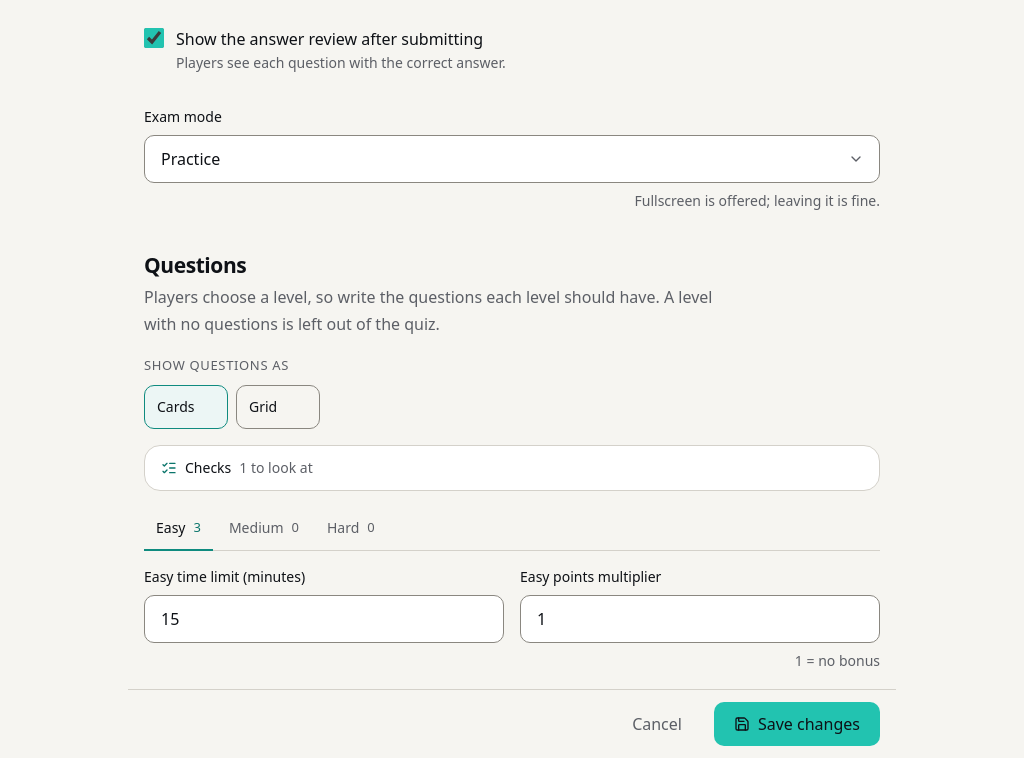
Test: the grid › marks the right option and reads the Correct column when it is left
(page scrolled)
Click the radio button labelled "Grid".
click(278, 406)  # box [236,384,320,428]
(page scrolled)
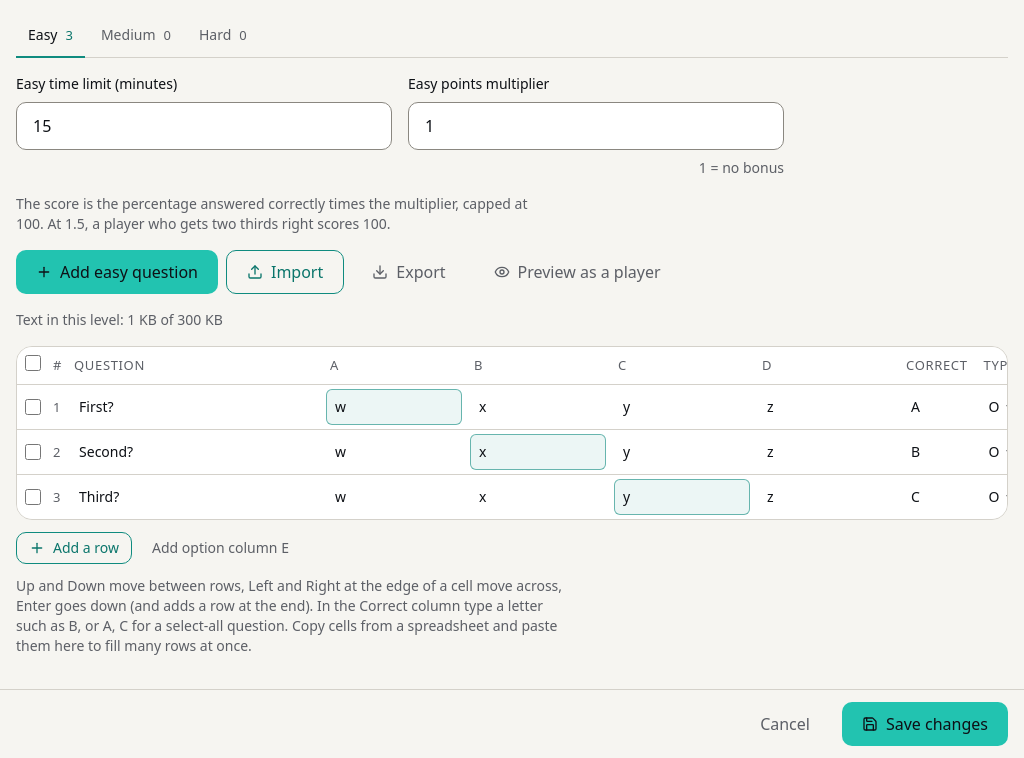
Expected: the field named "Correct answer of question 1" holds "A"
Expected: the field named "Question 2, option B, correct" is shown, [470,434,606,470]
Replace the text in the field named "Correct answer of question 1" with "c" at (937, 407), box [902,389,972,425]
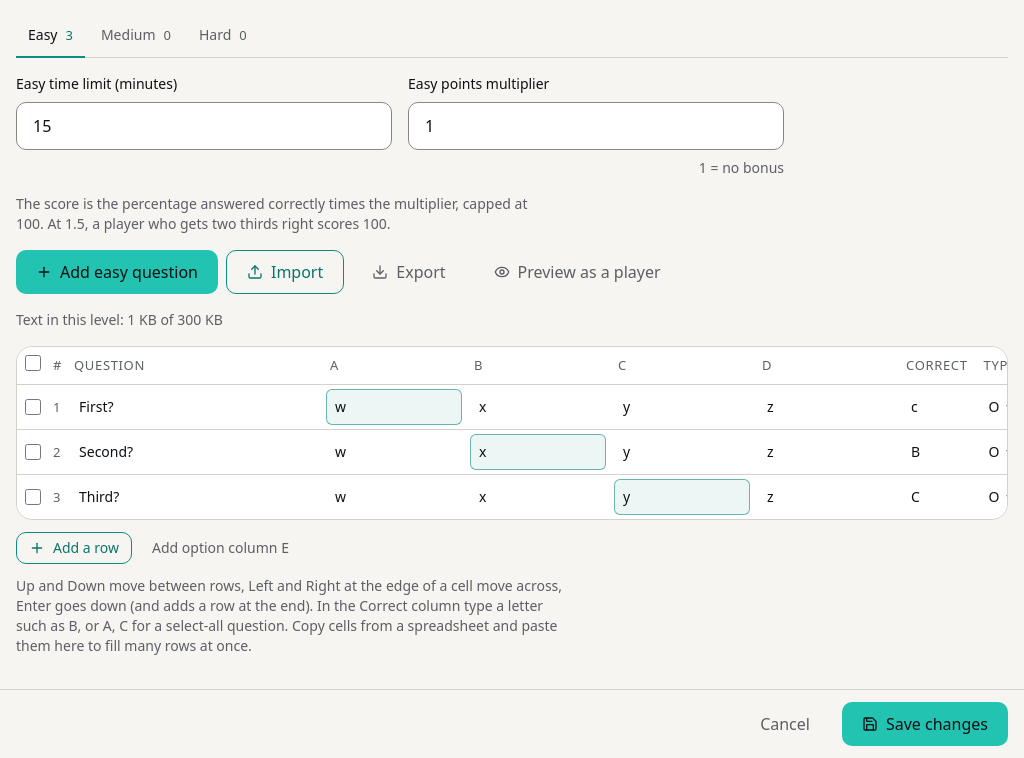
Leave the field named "Correct answer of question 1", box [902,389,972,425]
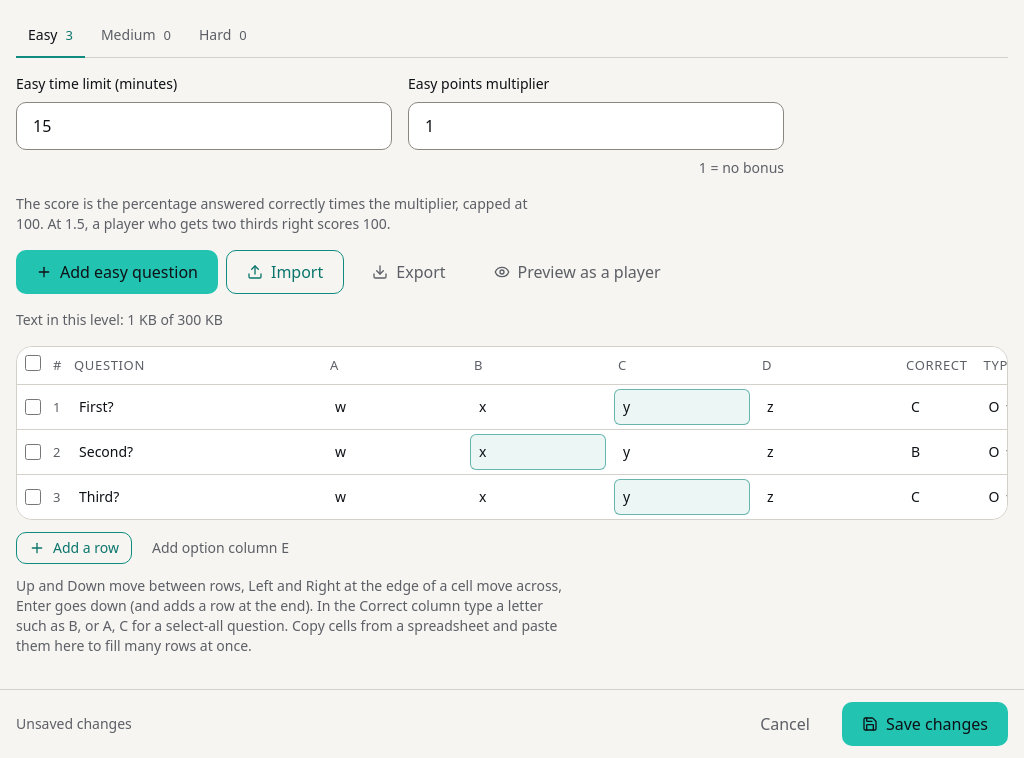
Expected: the field named "Question 1, option C, correct" is shown, [614,389,750,425]
